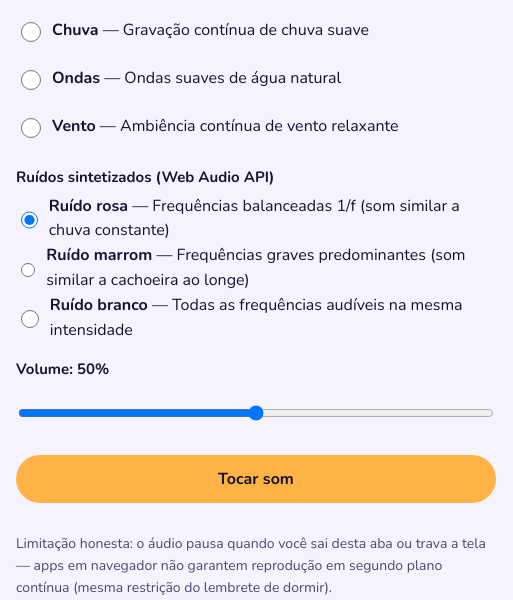
Scenario: tela de Sons › erro inesperado ao tocar ruído vira mensagem amigável sugerindo ambiências
The width and height of the screenshot is (513, 600).
(page scrolled)
Click the button "Tocar som". click: click(256, 479)
box: [16,455,496,503]
(page scrolled)
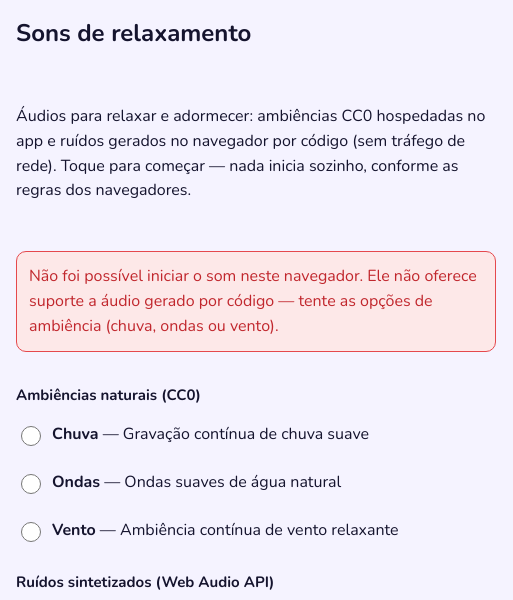
Expected: the message shows "Não foi possível iniciar o som neste navegador", [29,265,477,337]
Expected: the message shows "tente as opções de ambiência", [29,265,477,337]
